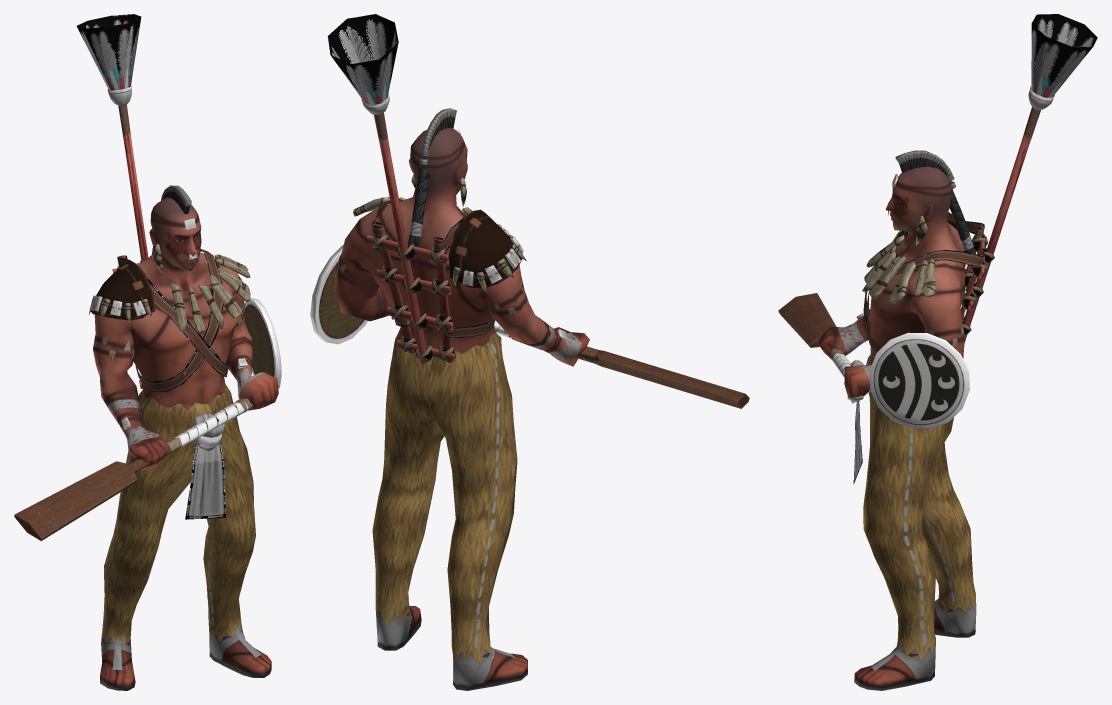
Rendered from 169-shornone.glb.
3 renders of one model, left to right at view 1: azimuth 30°, elevation 25°; view 2: azimuth 150°, elevation 25°; view 3: azimuth 270°, elevation 25°, orthographic. The views are drawn at different scales.
Size of the model in its own units: 1.5 by 2.85 by 1.3.
Materials: 5 (5 with a texture image).
